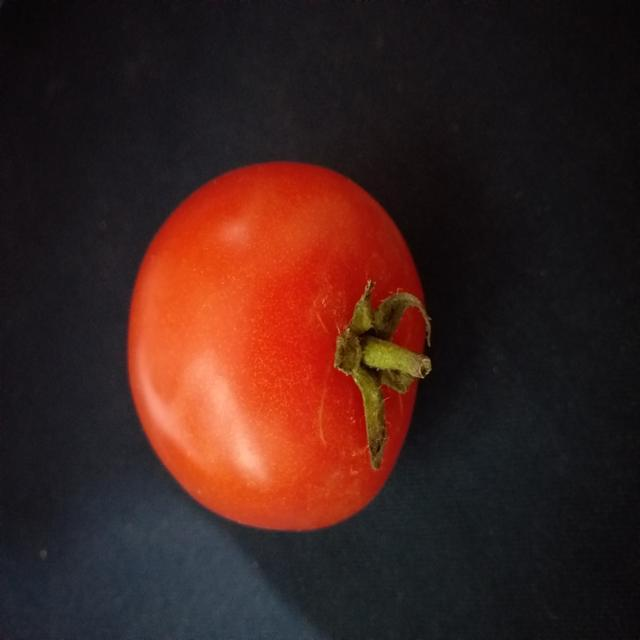tomato: (119, 134, 447, 547)
